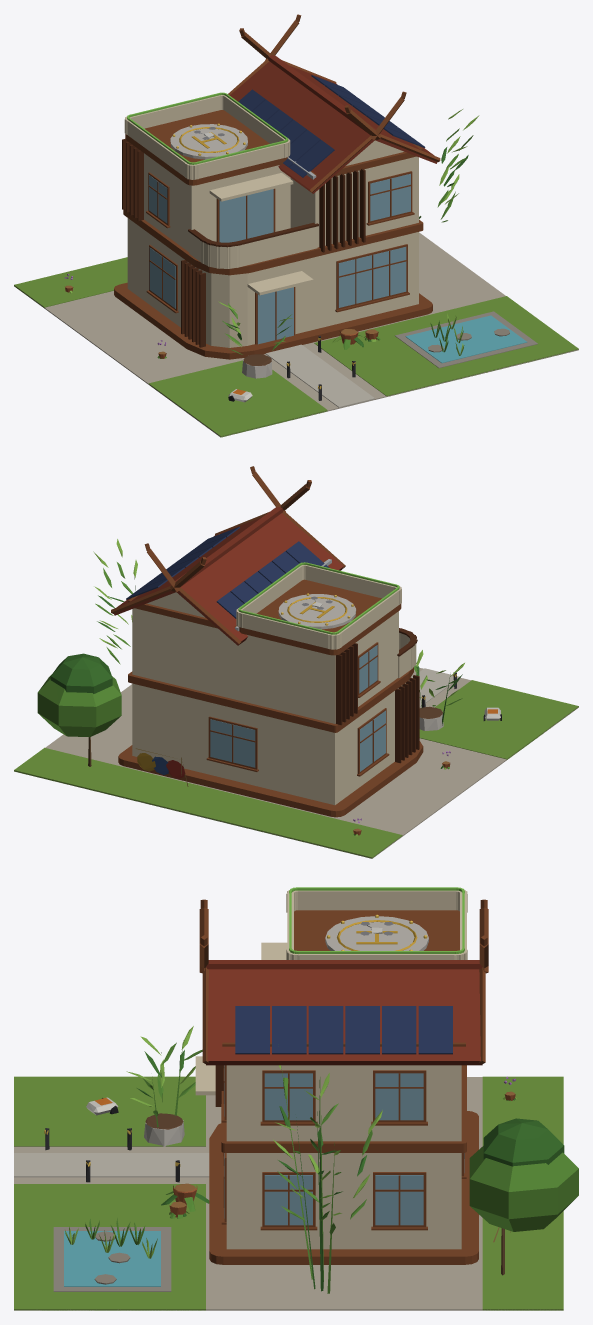
Rendered from home_1.glb.
3 views of the same model, one above another, from view 1: azimuth 30°, elevation 25°; view 2: azimuth 150°, elevation 25°; view 3: azimuth 270°, elevation 25° (orthographic). The views are drawn at different scales.
Parts seen in each view (by area): view 1: body, windows; view 2: body, windows; view 3: body, windows.
Part boxes in pixels (x1,y1,x2,y2): body: (14,14,578,437); windows: (127,92,355,389); body: (14,466,578,858); windows: (238,562,456,699); body: (14,890,578,1310); windows: (44,887,464,1166).
Bounding box in the file's own units: 16.55 × 10.05 × 16.34.
